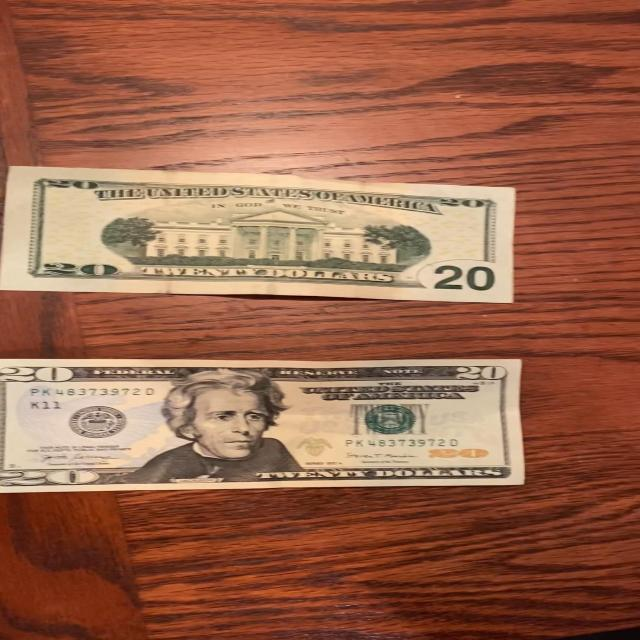20-Back: (3, 169, 531, 302)
20-Front: (0, 352, 530, 495)
